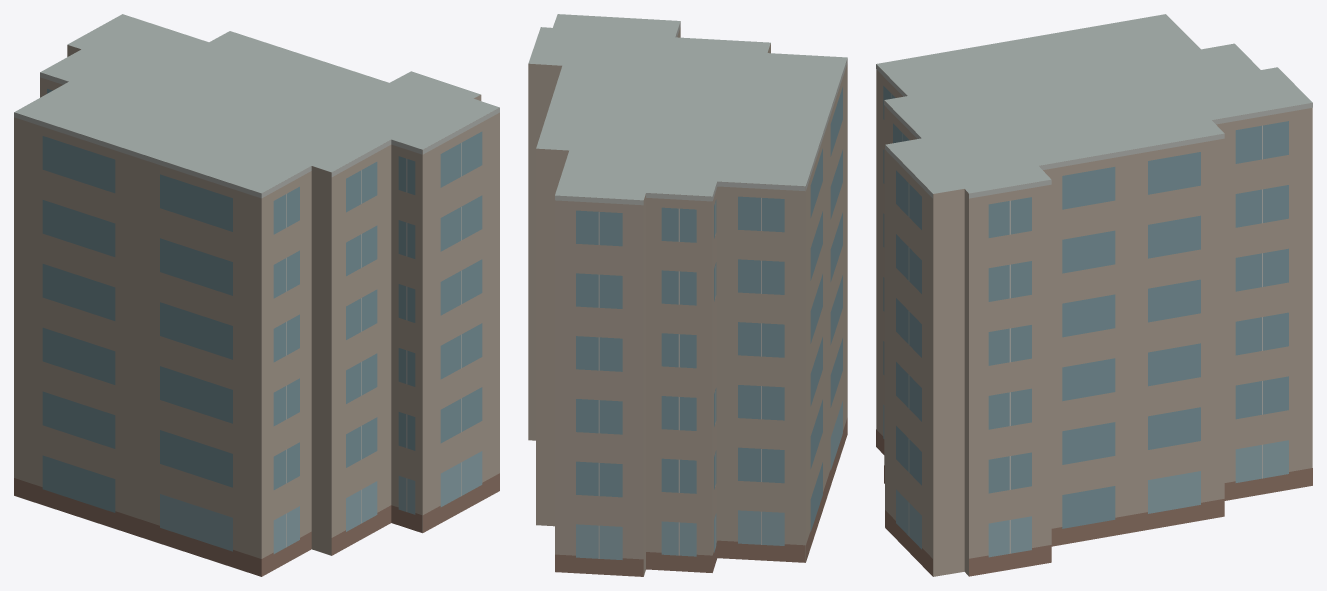
File: survey-upis-32848631.glb
The picture shows the model from 3 angles, left to right: view 1: azimuth 30°, elevation 25°; view 2: azimuth 150°, elevation 25°; view 3: azimuth 270°, elevation 25°; orthographic projection.
Visible parts, largest first — view 1: survey-upis-32848631.tmp; view 2: survey-upis-32848631.tmp; view 3: survey-upis-32848631.tmp.
Part boxes in pixels (box(x1,y1,x2,y2)): survey-upis-32848631.tmp: box(14, 14, 499, 576); survey-upis-32848631.tmp: box(528, 14, 847, 576); survey-upis-32848631.tmp: box(876, 14, 1312, 576).
Size of the model in its own units: 18.75 by 18.6 by 19.23.
